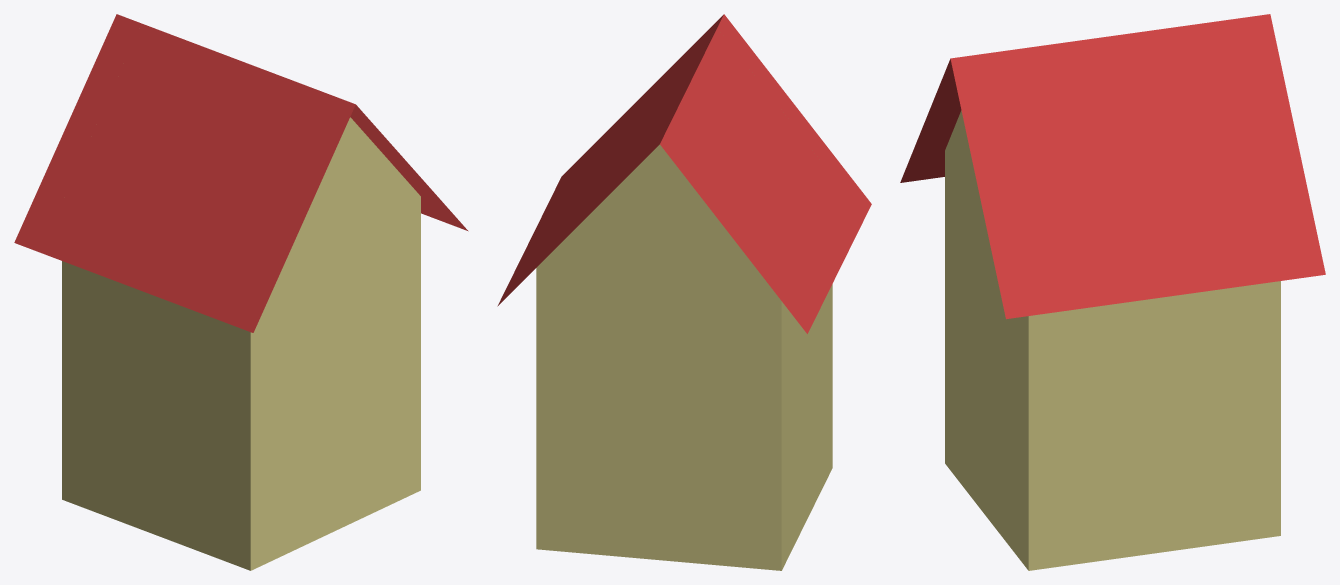
3 renders of one model, left to right at view 1: azimuth 30°, elevation 25°; view 2: azimuth 150°, elevation 25°; view 3: azimuth 270°, elevation 25°, orthographic. The views are drawn at different scales.
Visible parts, largest first — view 1: group_5, group_3, group_4; view 2: group_5, group_3, group_4; view 3: group_3, group_5.
Part boxes in pixels (x1,y1,x2,y2): group_5: [62, 117, 420, 570]; group_3: [62, 23, 330, 328]; group_4: [14, 14, 468, 332]; group_5: [536, 144, 832, 570]; group_3: [497, 14, 862, 308]; group_4: [660, 14, 871, 333]; group_3: [900, 14, 1325, 319]; group_5: [945, 110, 1280, 570].
Size of the model in its own units: 12.03 by 11.99 by 14.29.
